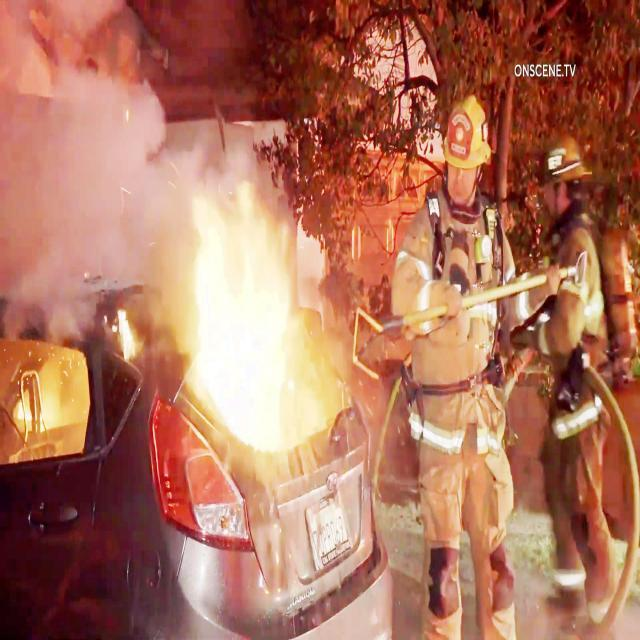Fire: (195, 200, 311, 440), (16, 357, 78, 423), (96, 302, 148, 376)
Smoke: (6, 3, 182, 268)
